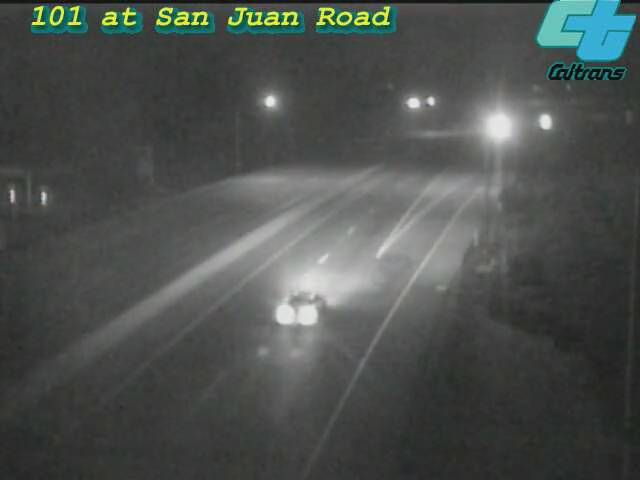vehicle: (262, 270, 342, 350), (471, 101, 521, 151), (518, 97, 568, 147)
